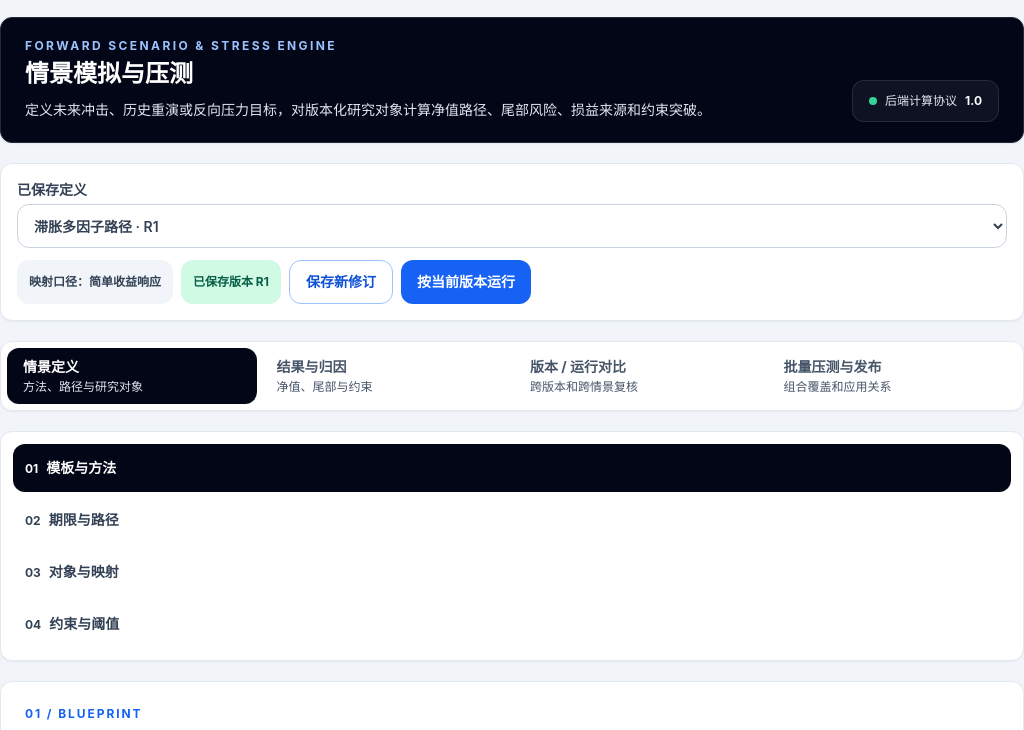
Test: ScenarioAlgorithmCenter › 权重核验缺少合规执行证明时失败关闭且不在浏览器回退求和
Expected: the heading "情景模拟与压测" is shown, [25,59,193,88]
Click the button "03对象与映射": (84, 572) [13,548,1011,596]
(page scrolled)
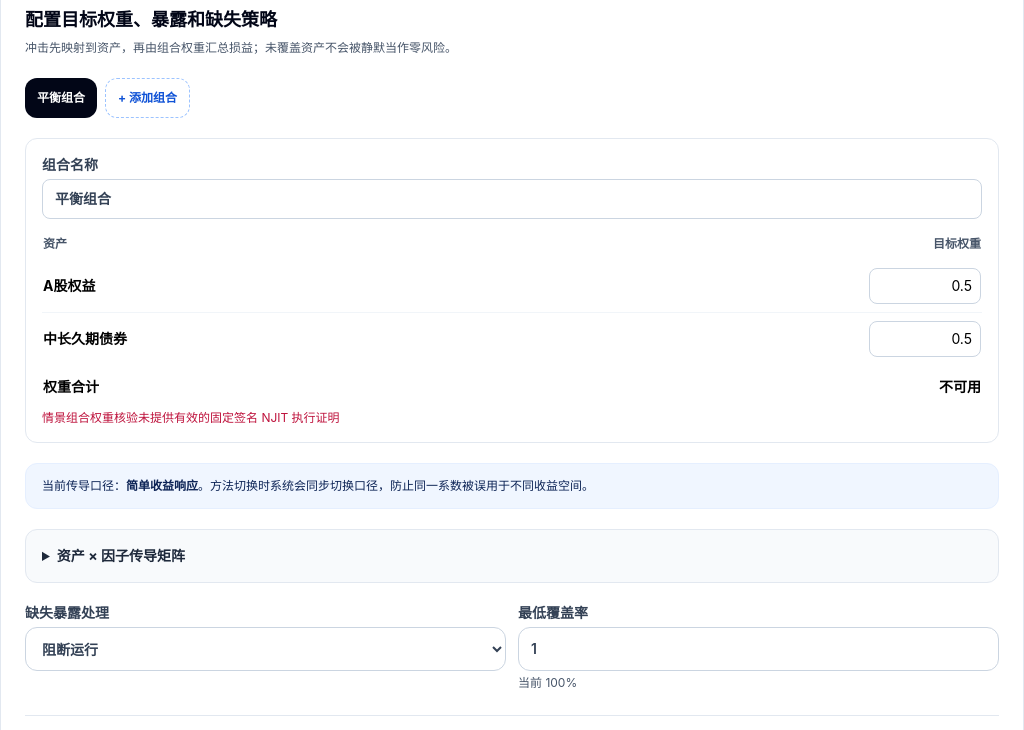
Expected: the message reads "情景组合权重核验未提供有效的固定签名 NJIT 执行证明", [42,410,340,425]
Expected: the text "不可用" is shown, [446,365,982,398]
